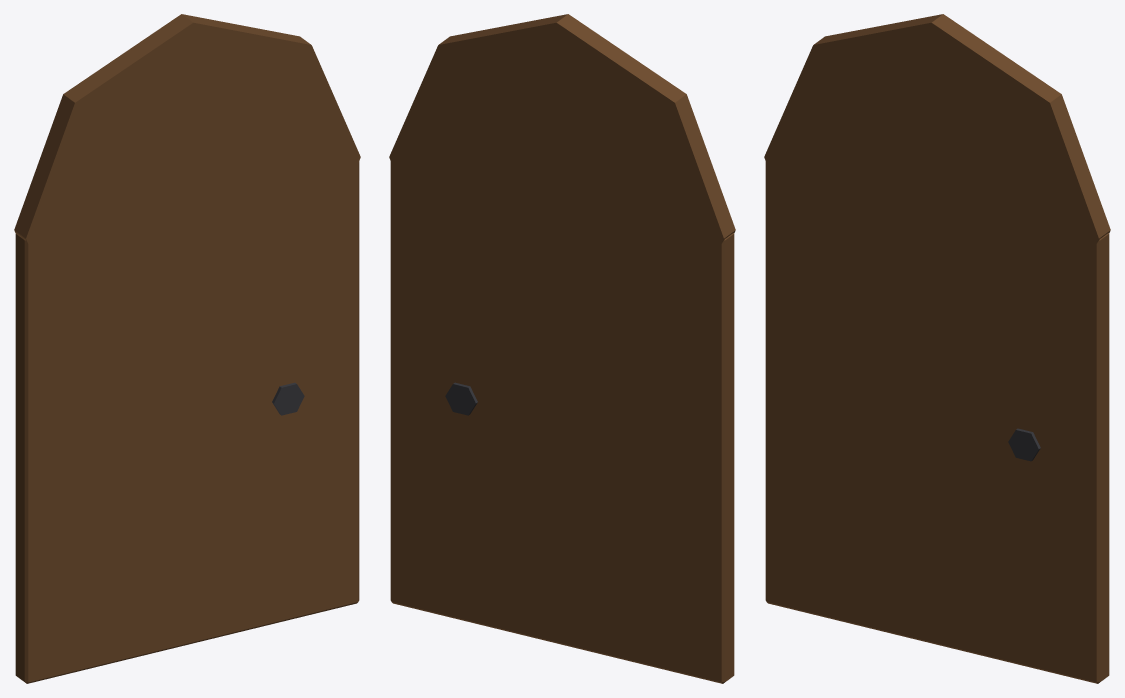
Rendered from Bld_Lab_TwinDoors_DoorA_LOD1.glb.
3 views of the same model, side by side, from view 1: azimuth 30°, elevation 25°; view 2: azimuth 150°, elevation 25°; view 3: azimuth 330°, elevation 25° (orthographic).
Parts seen in each view (by area): view 1: Bld_Lab_TwinDoors_DoorA; view 2: Bld_Lab_TwinDoors_DoorA; view 3: Bld_Lab_TwinDoors_DoorA.
Boxes of the visible parts, x1,y1,x2,y2 form: Bld_Lab_TwinDoors_DoorA: (14,14,360,683); Bld_Lab_TwinDoors_DoorA: (389,14,735,683); Bld_Lab_TwinDoors_DoorA: (764,14,1110,683).
Size of the model in its own units: 1.96 by 3.48 by 0.16.
